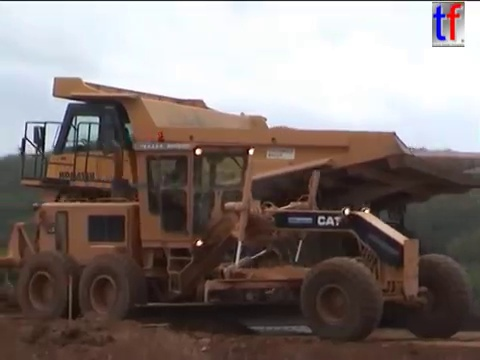motor grader: (1, 129, 475, 344)
truck: (16, 73, 480, 333)
